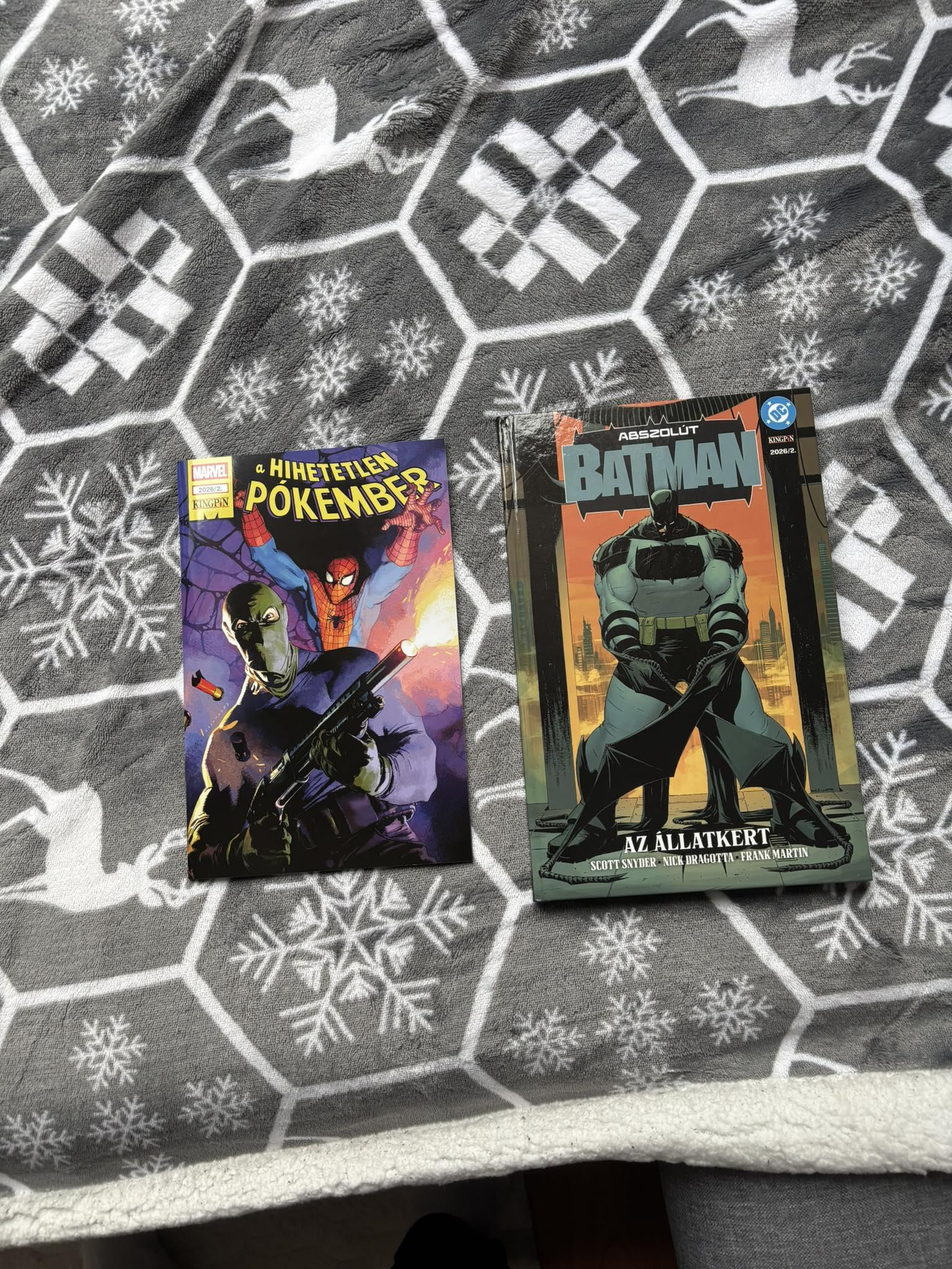comic: (497, 387, 869, 905), (172, 439, 471, 879)
